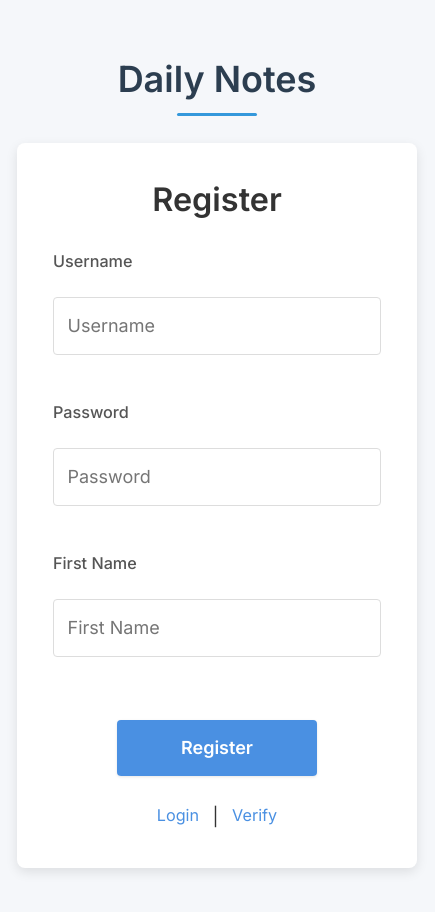
CognitoRegister › shows registration failed message on error
In the field with placeholder "Username": (217, 326) [53,297,381,355], type "user1"
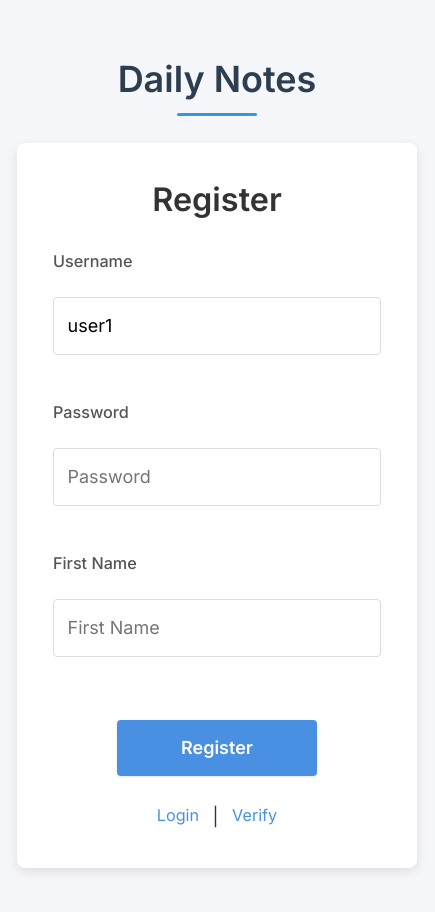
In the password field with placeholder "Password": (217, 477) [53,448,381,506], type "pass1"
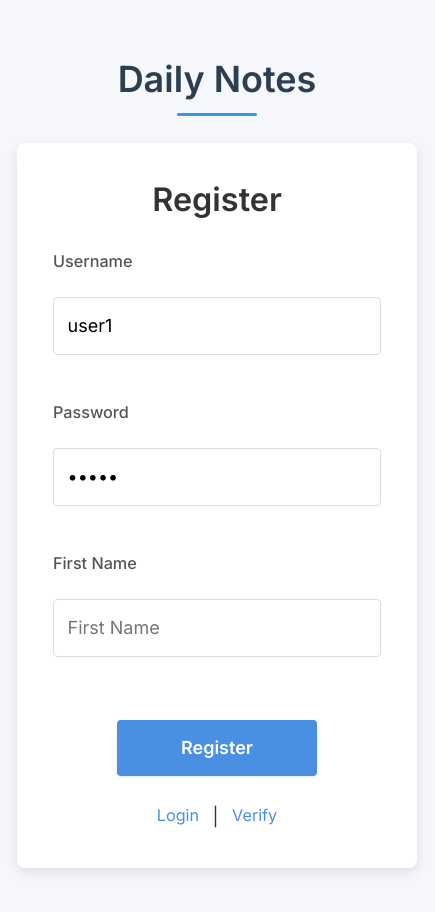
In the field with placeholder "First Name": (217, 628) [53,599,381,657], type "John"
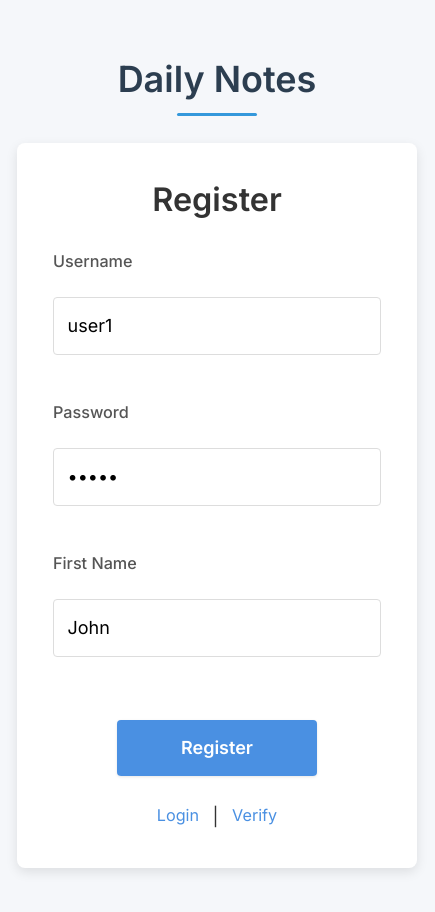
Click the button "Register": (217, 748) [117,720,317,776]
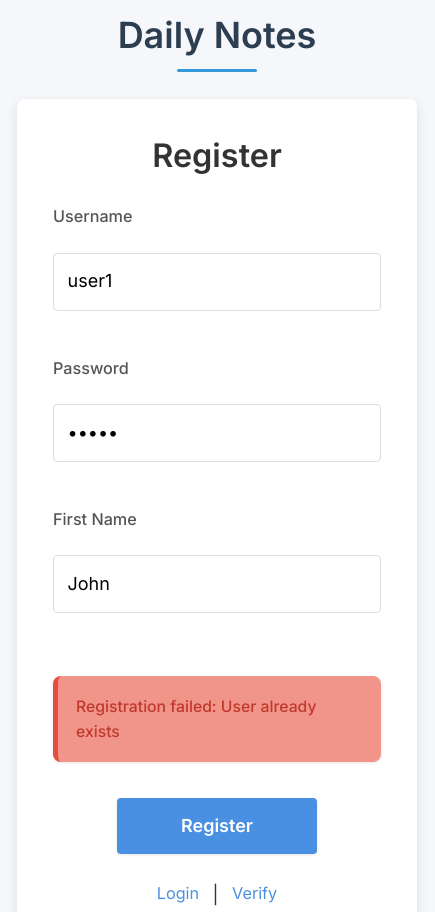
Now the text "Registration failed: User already exists" is shown, box [53,676,381,762]
